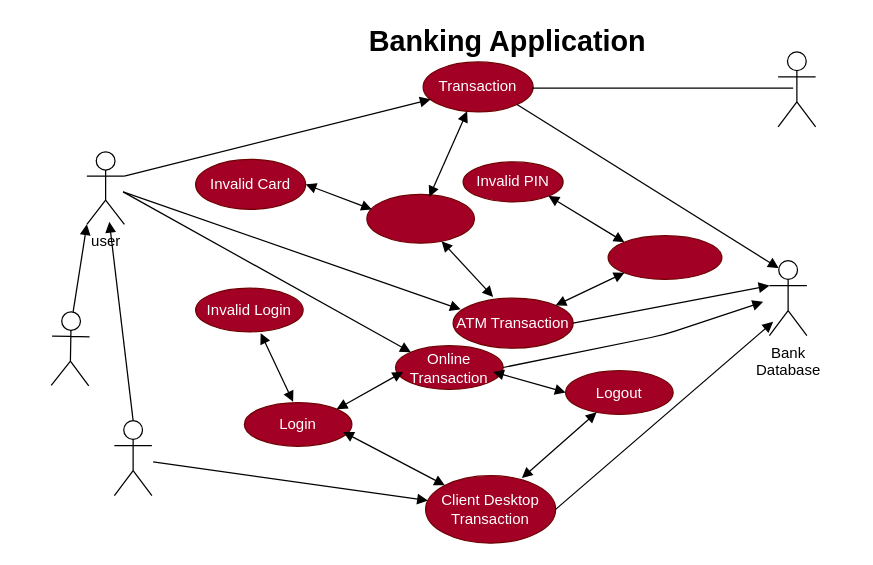
Some shapes in this 873 by 565 pixel diagram are drawn without their labels. Each missing label, with the centre of its shape:
"Bank Employee" belongs at pixel 132 457.
"Insert Card" belongs at pixel 420 218.
"PIN Validation" belongs at pixel 664 256.
"Retail institution" belongs at pixel 796 89.
"Web Merchant" belongs at pixel 70 348.
